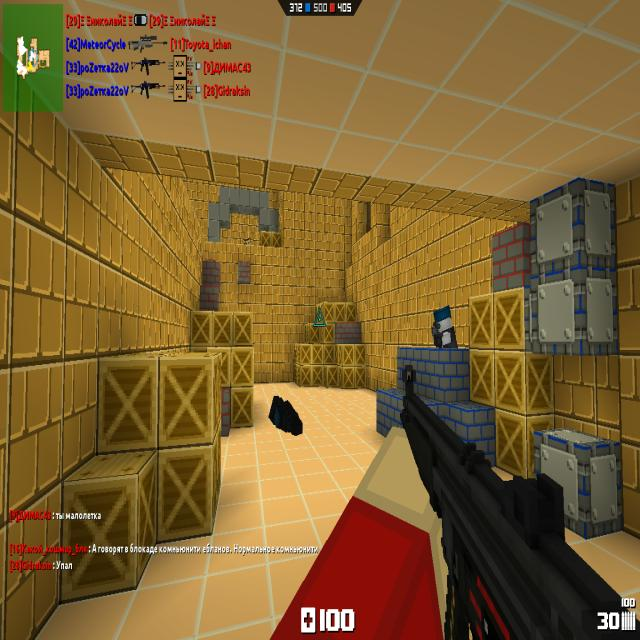enemy: (432, 303, 459, 348)
